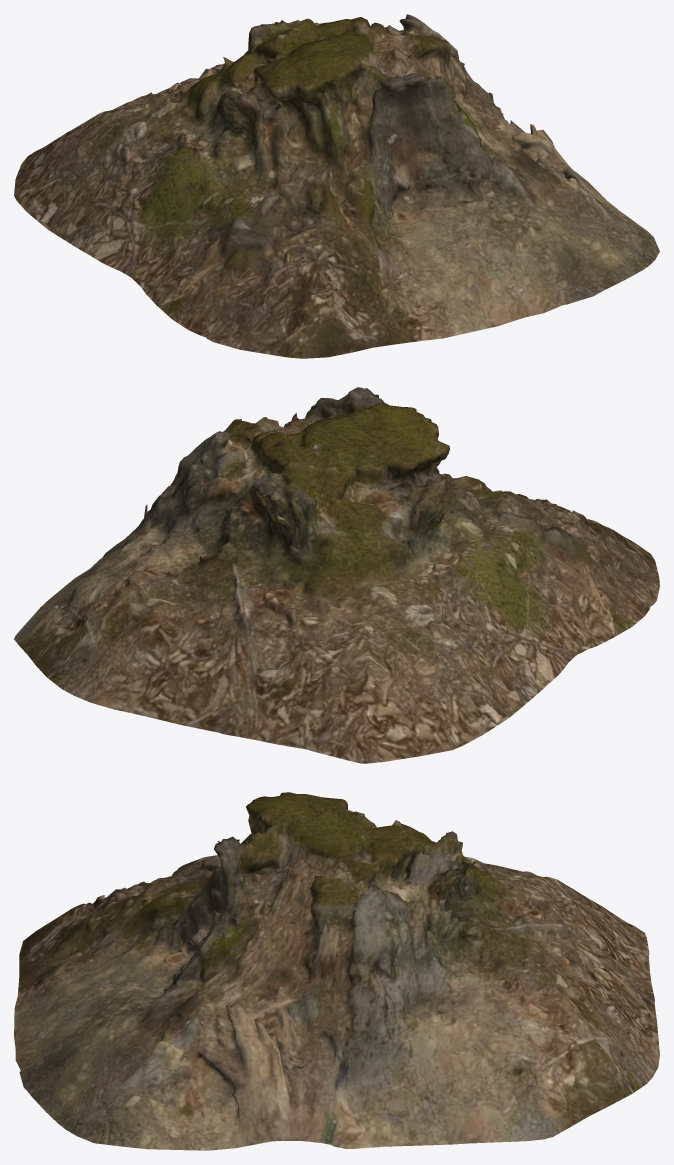
File: tree_stump_01_1k.glb
3 views of the same model, one above another, from view 1: azimuth 30°, elevation 25°; view 2: azimuth 150°, elevation 25°; view 3: azimuth 270°, elevation 25° (orthographic). The views are drawn at different scales.
Parts seen in each view (by area): view 1: tree_stump_01; view 2: tree_stump_01; view 3: tree_stump_01.
Boxes of the visible parts, x1=… form: tree_stump_01: x1=14, y1=14, x2=659, y2=358; tree_stump_01: x1=14, y1=387, x2=659, y2=763; tree_stump_01: x1=14, y1=792, x2=659, y2=1150.
Size of the model in its own units: 1.43 by 0.5728 by 1.59.
1 material, 1 textured.
